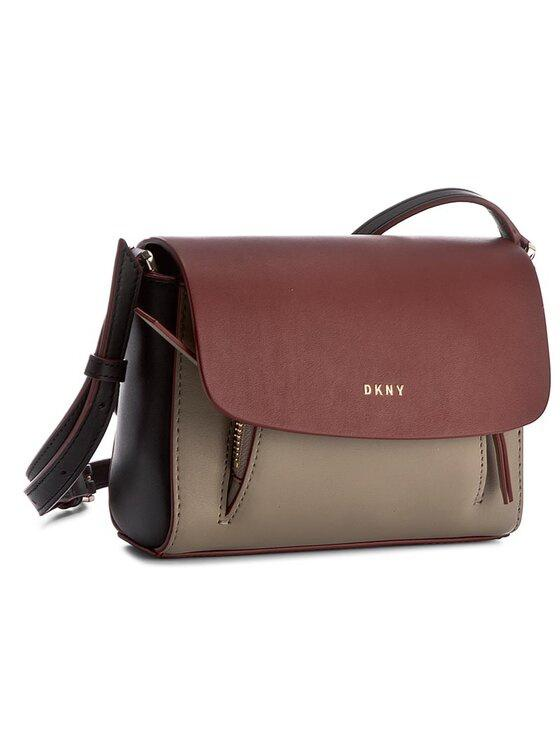DKNY: (364, 384, 405, 397)
